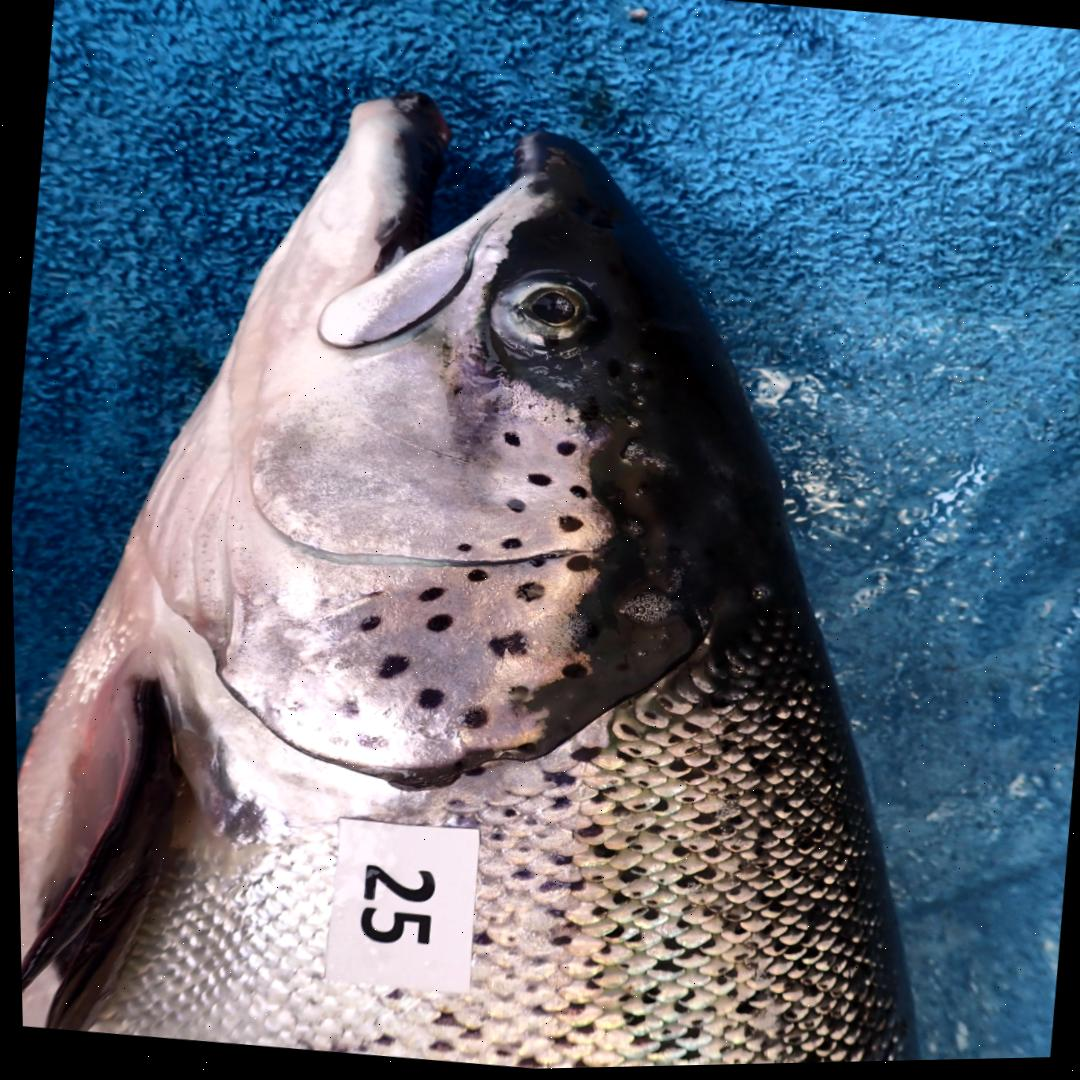spot: (484, 635, 524, 659), (376, 656, 406, 681), (506, 687, 526, 718), (413, 691, 440, 711), (460, 710, 484, 732), (423, 615, 449, 635), (514, 585, 540, 604), (562, 557, 588, 574), (353, 737, 384, 751), (555, 519, 580, 535), (417, 589, 440, 604), (357, 618, 378, 633), (524, 476, 547, 489), (336, 701, 355, 716), (464, 571, 484, 585), (553, 444, 573, 458), (566, 488, 585, 502), (498, 540, 519, 551), (505, 502, 522, 515), (502, 435, 516, 449), (525, 561, 543, 570), (455, 546, 467, 554)
